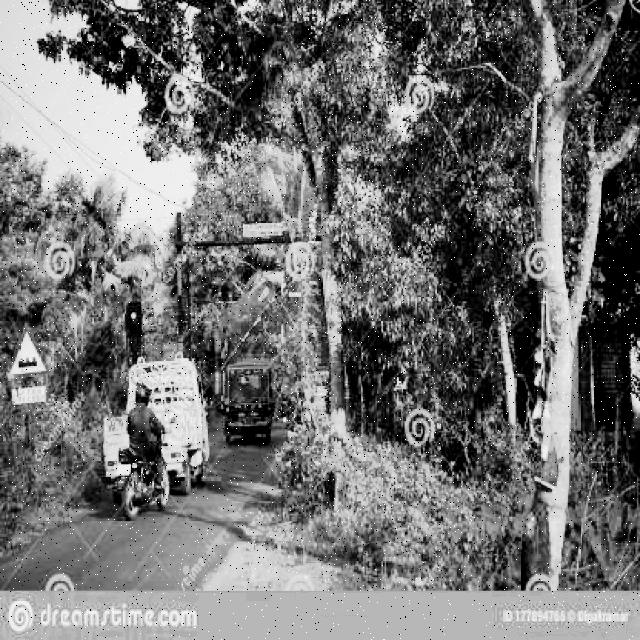HCV: (235, 370, 281, 436)
